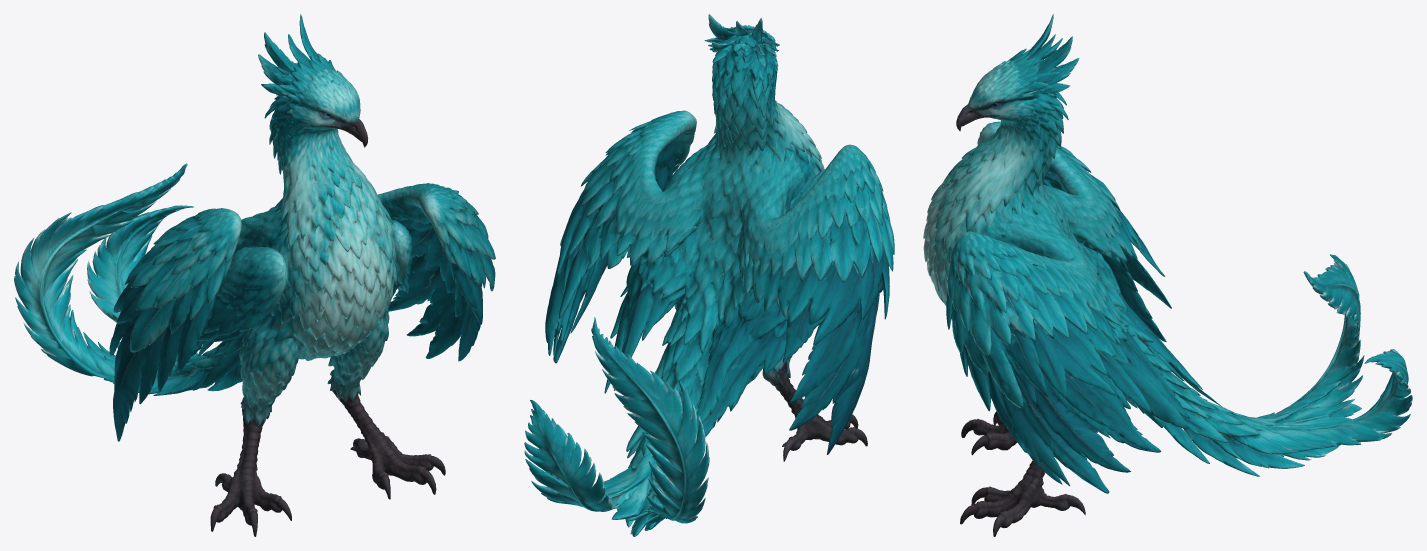
File: rill-species-source.glb
The picture shows the model from 3 angles, left to right: view 1: azimuth 30°, elevation 25°; view 2: azimuth 150°, elevation 25°; view 3: azimuth 270°, elevation 25°; orthographic projection. The views are drawn at different scales.
Visible parts, largest first — view 1: Mesh_0; view 2: Mesh_0; view 3: Mesh_0.
Part boxes in pixels (x1=…): Mesh_0: x1=14, y1=14, x2=495, y2=536; Mesh_0: x1=524, y1=14, x2=894, y2=536; Mesh_0: x1=923, y1=14, x2=1412, y2=536.
Bounding box in the file's own units: 1.5 × 1.9 × 1.87.
1 material, 1 textured.
